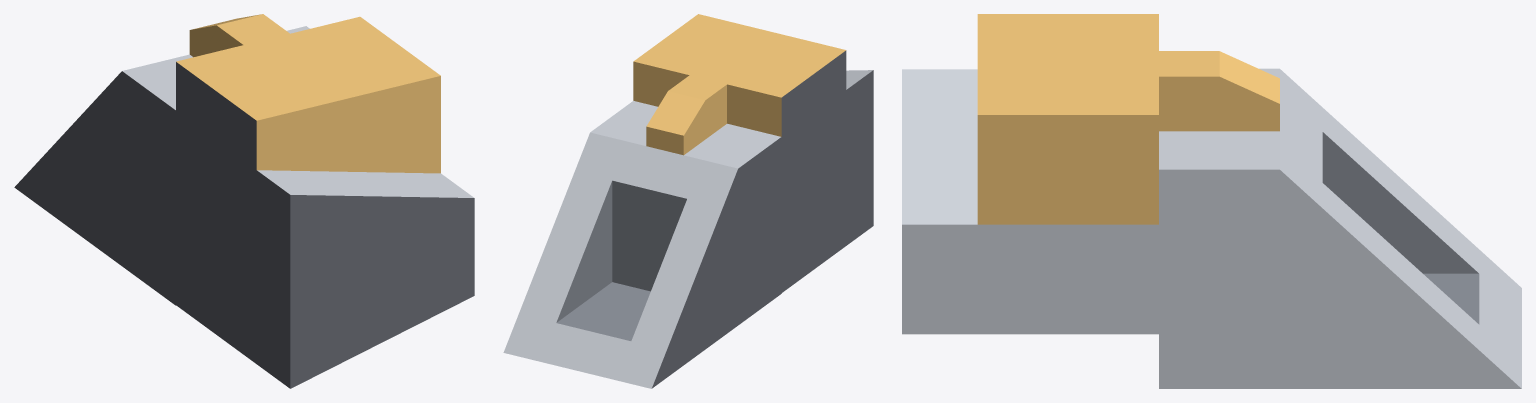
File: pod_starboard.glb
The picture shows the model from 3 angles, left to right: view 1: azimuth 30°, elevation 25°; view 2: azimuth 150°, elevation 25°; view 3: azimuth 270°, elevation 25°; orthographic projection. The views are drawn at different scales.
Bounding box in the file's own units: 0.79 × 1 × 2.05.
